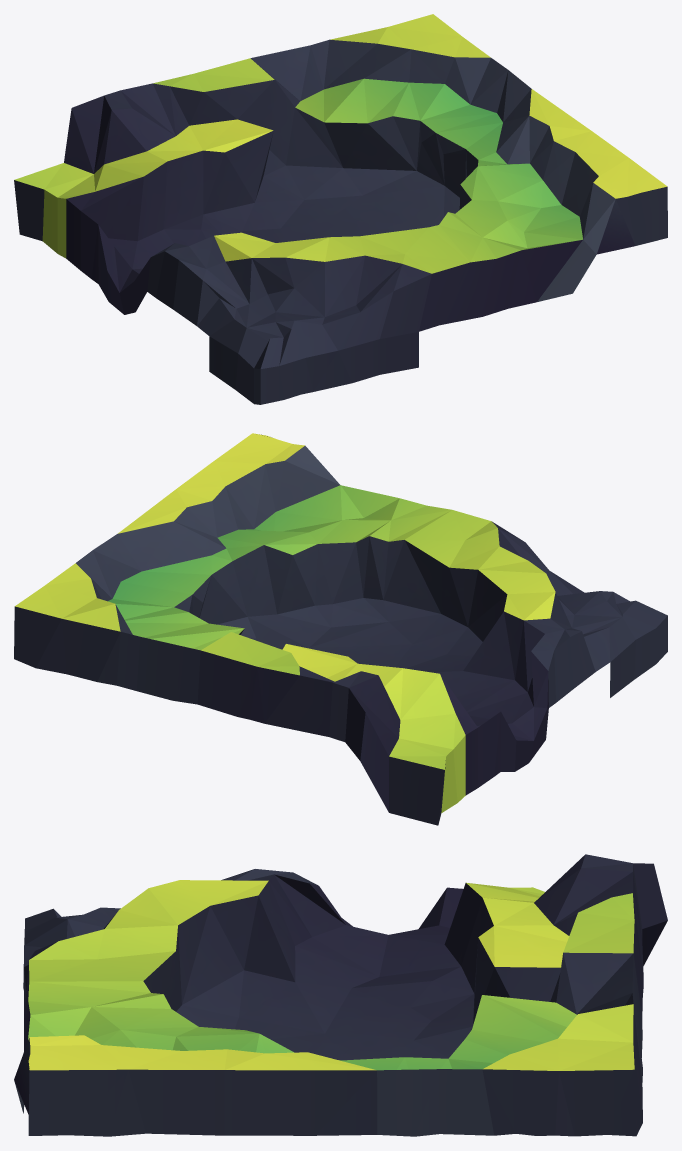
The model's file is Terrain_Lake.fbx.
3 views of the same model, one above another, from view 1: azimuth 30°, elevation 25°; view 2: azimuth 150°, elevation 25°; view 3: azimuth 270°, elevation 25° (orthographic). The views are drawn at different scales.
Visible parts, largest first — view 1: Lake Area; view 2: Lake Area; view 3: Lake Area.
Boxes of the visible parts, <box> form: Lake Area: <box>14,14,667,404</box>; Lake Area: <box>14,433,667,825</box>; Lake Area: <box>14,854,667,1136</box>.
Size of the model in its own units: 9094 by 2752 by 9460.
Materials: 2 (2 with a texture image).
